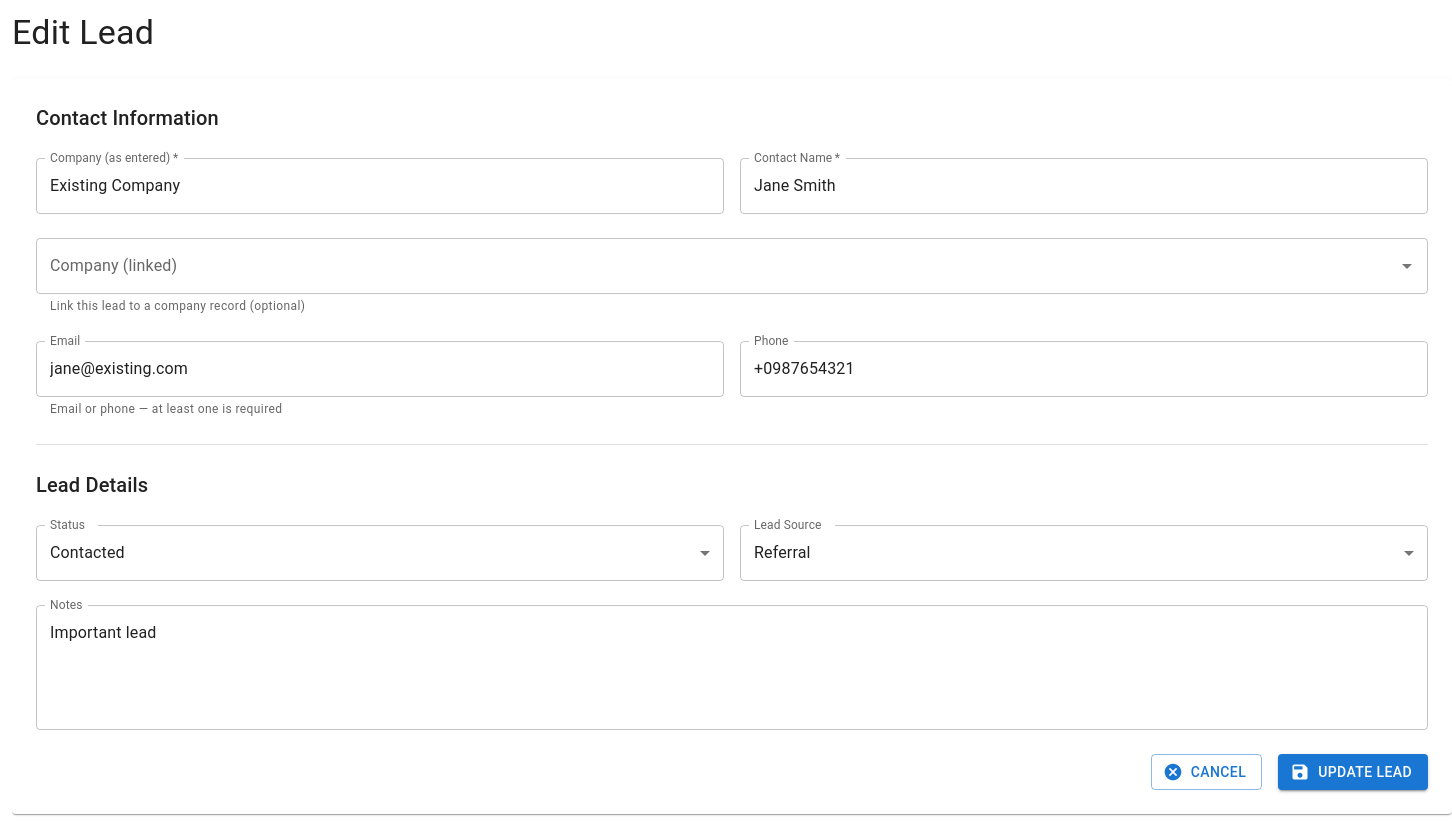
Test: LeadForm › Edit Mode › offers Converted only for a lead that is already converted
Expected: the field showing "Existing Company" is shown, x1=36 y1=158 x2=724 y2=214
Press the mouse on the dropdown named "Status": (87, 553) x1=50 y1=543 x2=125 y2=562
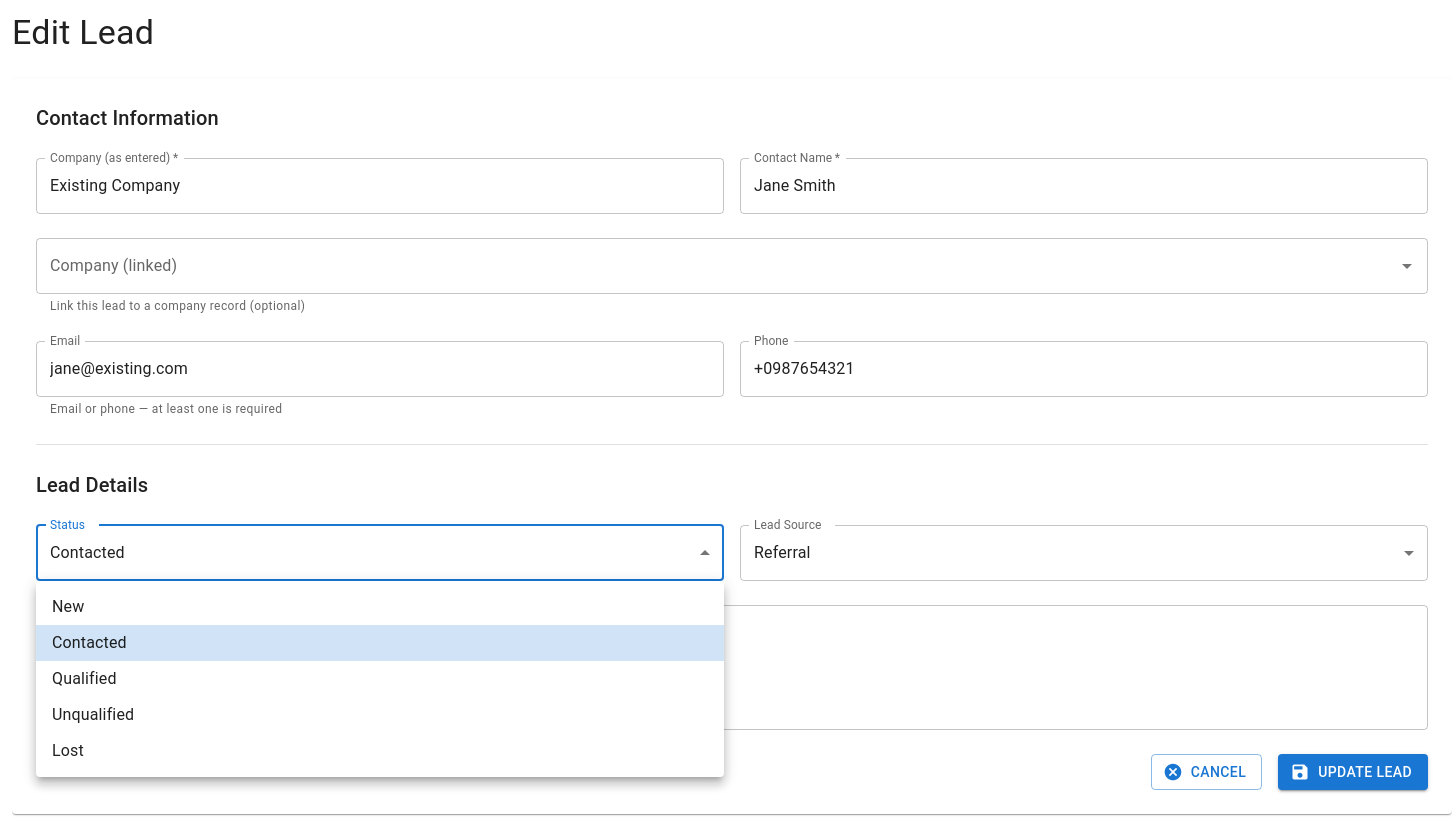
Result: the option "Contacted" is shown at x1=36 y1=625 x2=724 y2=661
